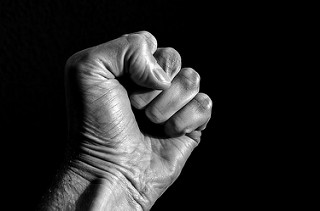fist: (71, 41, 228, 201)
